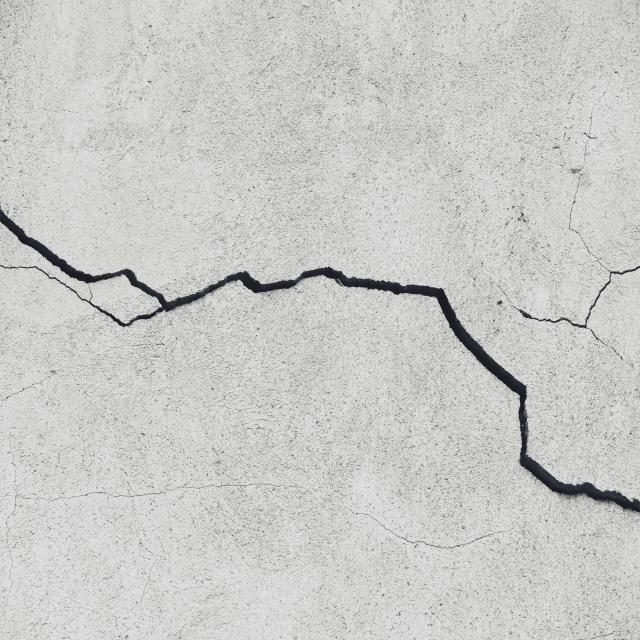Crack: (0, 211, 638, 514), (569, 75, 640, 324), (494, 282, 618, 358)
